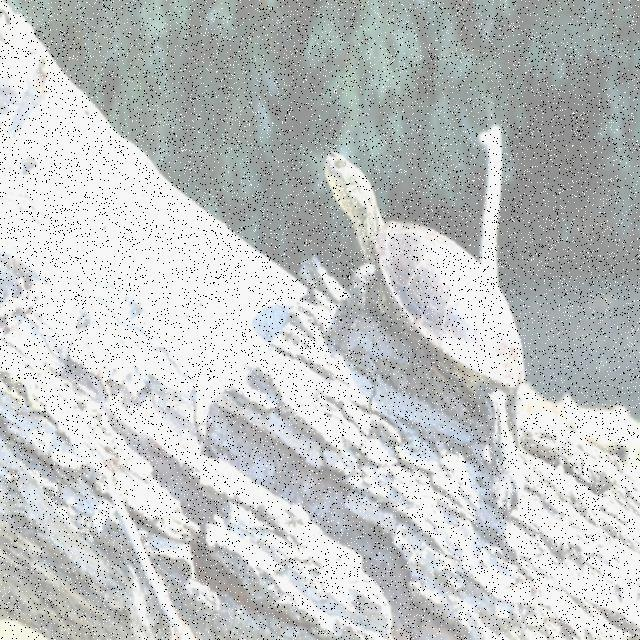tortoise: (305, 156, 511, 438)
